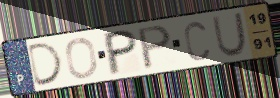C: (182, 20, 211, 63)
D: (26, 40, 66, 88)
O: (64, 36, 100, 80)
P: (136, 23, 174, 72), (104, 28, 139, 78)
U: (211, 11, 249, 59)
